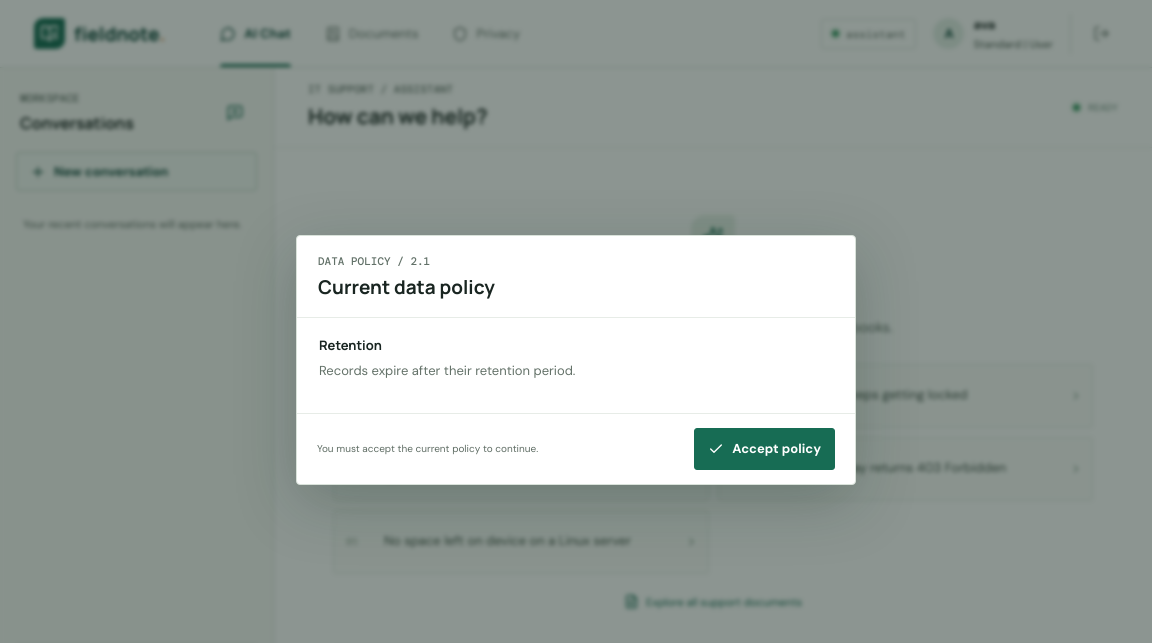
Scenario: App › accepts blocking policy, navigates for standard user, and signs out despite request failure
This screenshot has width=1152, height=643.
Expected: the dialog "DATA POLICY" is shown, [296, 235, 856, 485]
Click the button "Accept policy" at [765, 449], box [694, 428, 835, 470]
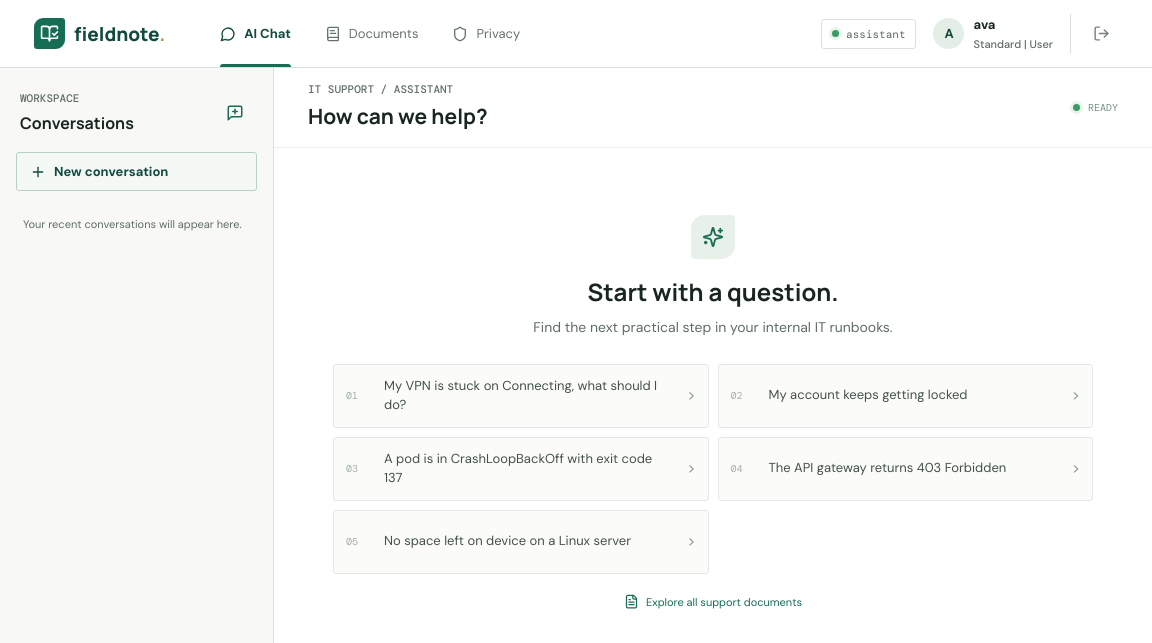
Click the button "Documents" at [372, 34], box [312, 0, 431, 67]
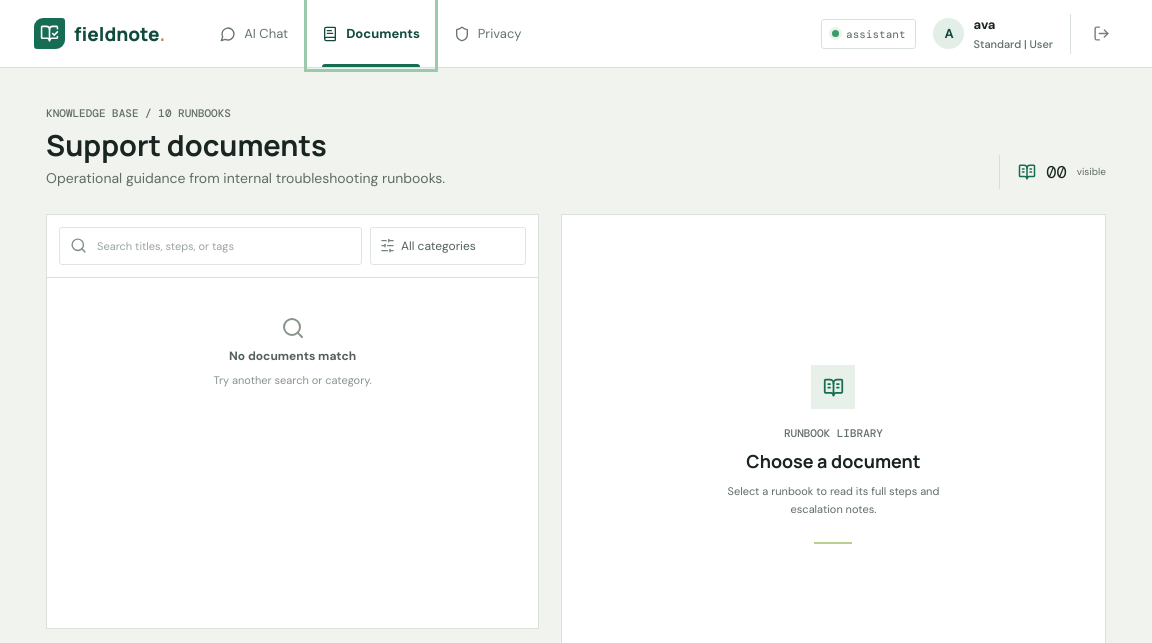
Expected: the heading "Support documents" is shown, [46, 125, 327, 165]
Click the link "fieldnote." at [100, 34], box [34, 18, 165, 49]
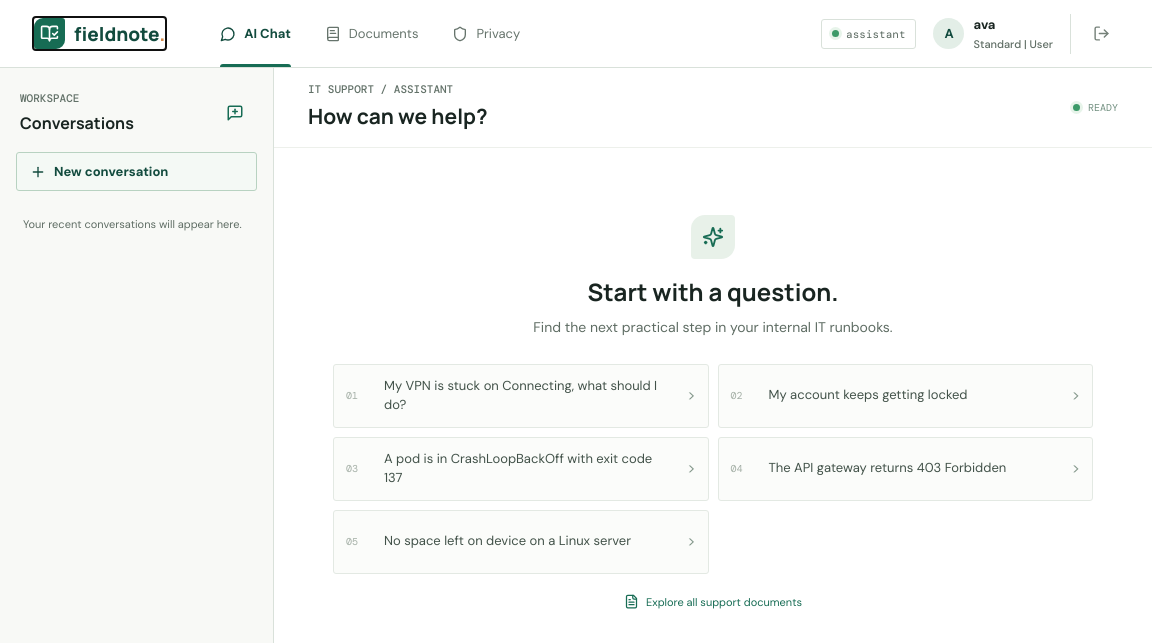
Expected: the heading "How can we help?" is shown, [308, 101, 488, 132]
Click the button "Privacy" at [486, 34], box [439, 0, 533, 67]
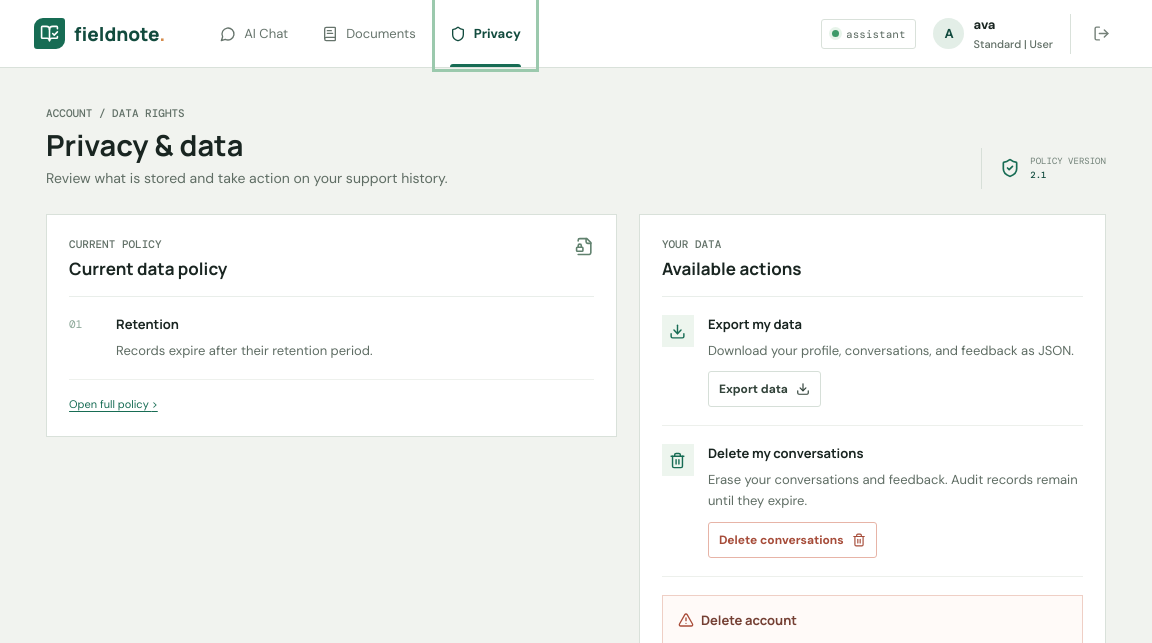
Expected: the heading "Privacy & data" is shown, [46, 125, 243, 165]
Click the button "Export data" at [764, 389], box [708, 371, 821, 407]
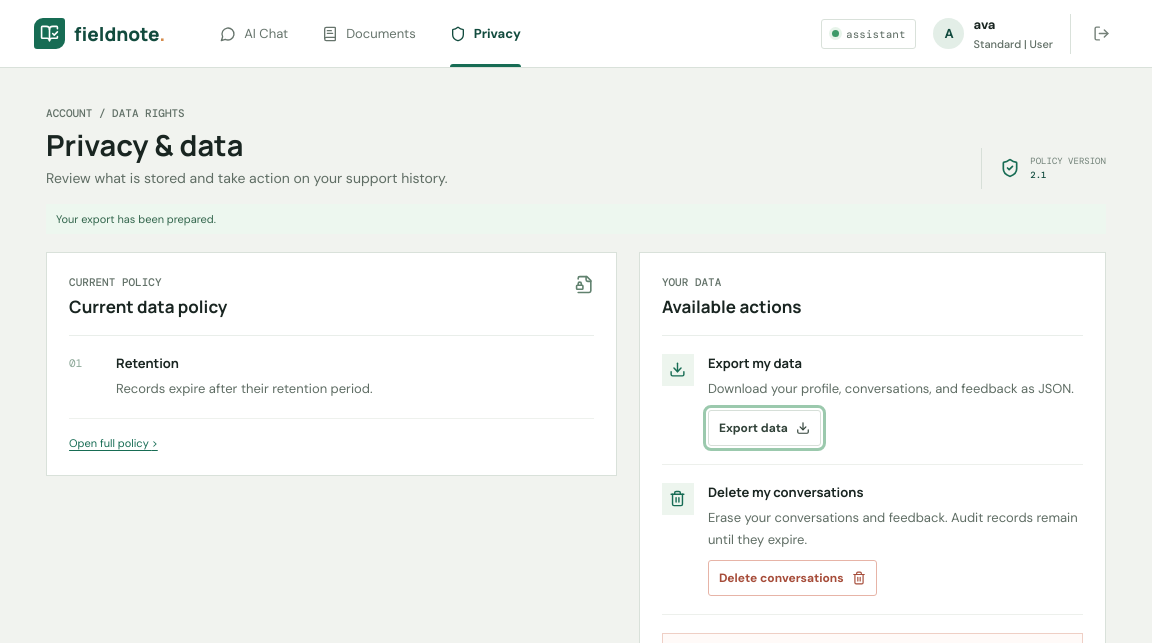
Expected: the text "Your export has been prepared." is shown, [46, 204, 1106, 234]
Click the button named "Sign out" at [1094, 34], box [1070, 14, 1118, 54]
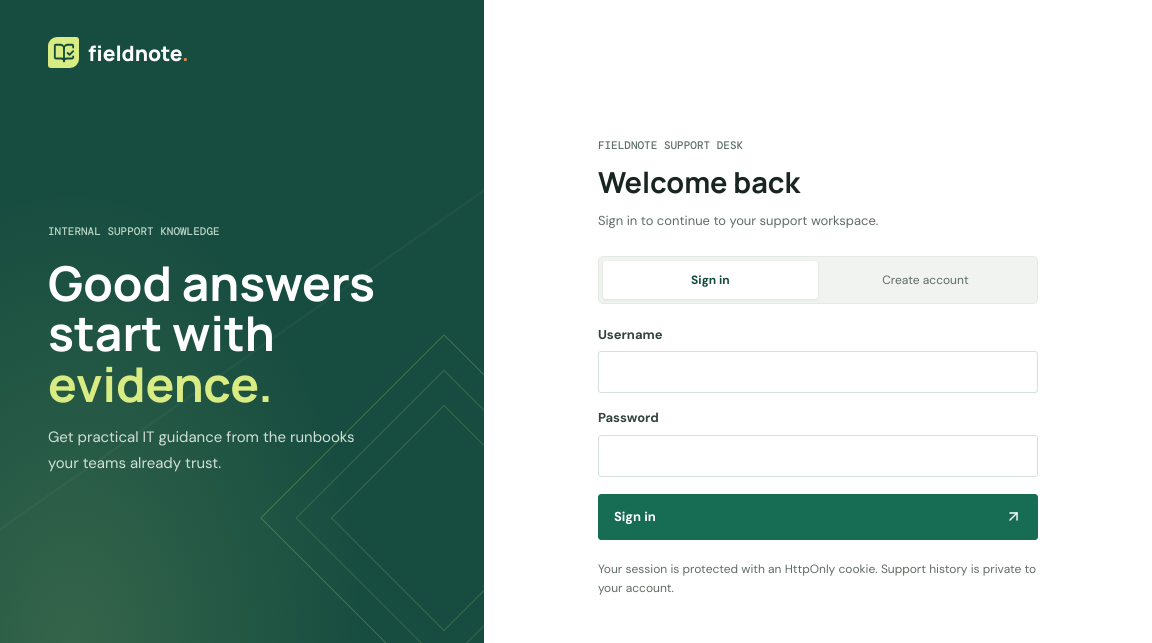
Expected: the heading "Welcome back" is shown, [598, 162, 800, 202]
